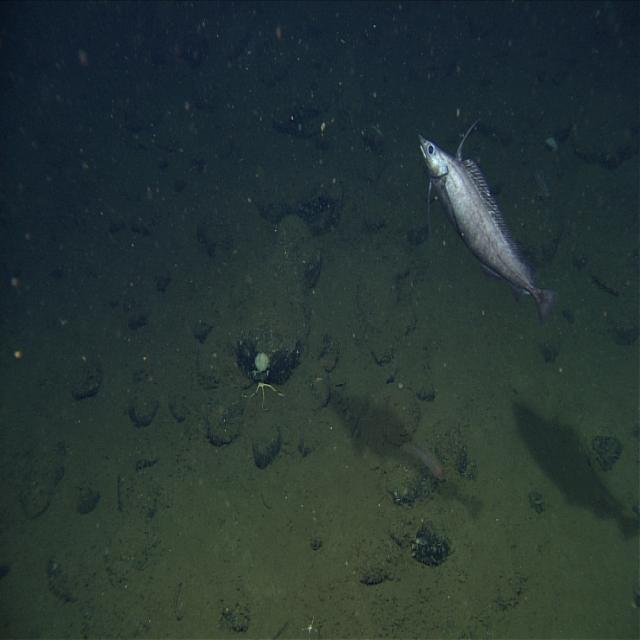Brittle Star: (245, 380, 287, 414)
